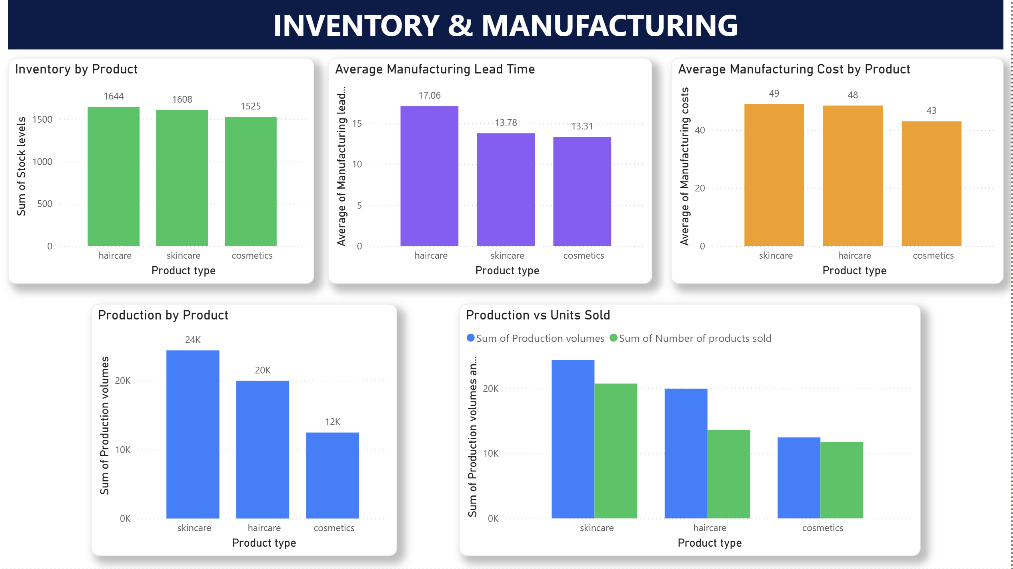

This screenshot's page, from the dashboard's own definition file:
{"tool":"powerbi","page":{"name":"Inventory & Manufacturing","canvas":[1280,720],"ordinal":2},"visuals":[{"type":"textbox","box":[10,0,1260,62.9],"z":0},{"type":"clusteredColumnChart","title":"Production by Product","fields":{"Category":["Supply_chain_Data.Product type"],"Y":["Sum(Supply_chain_Data.Production volumes)"]},"box":[115.8,384.2,387.7,319.3],"z":1000},{"type":"clusteredColumnChart","title":"Inventory by Product","fields":{"Category":["Supply_chain_Data.Product type"],"Y":["Sum(Supply_chain_Data.Stock levels)"]},"box":[10.5,73.7,387.7,286],"z":2000},{"type":"clusteredColumnChart","title":"Average Manufacturing Cost by Product","fields":{"Category":["Supply_chain_Data.Product type"],"Y":["Avg(Supply_chain_Data.Manufacturing costs)"]},"box":[849.1,73.7,421.1,286],"z":3000},{"type":"clusteredColumnChart","title":"Average Manufacturing Lead Time","fields":{"Category":["Supply_chain_Data.Product type"],"Y":["Avg(Supply_chain_Data.Manufacturing lead time)"]},"box":[415.8,73.7,410.5,286],"z":4000},{"type":"clusteredColumnChart","title":"Production vs Units Sold","fields":{"Category":["Supply_chain_Data.Product type"],"Y":["Sum(Supply_chain_Data.Production volumes)","Sum(Supply_chain_Data.Number of products sold)"]},"box":[580.7,384.2,584.2,319.3],"z":5000}]}

Visuals, with their boxes in screenshot pixels (x1, y1, x2, y2), scaled from the page's 1280x720 canvas onto the 1013x569 screenshot:
textbox: {"left": 8, "top": 0, "right": 1005, "bottom": 50}
"Production by Product" clusteredColumnChart: {"left": 92, "top": 304, "right": 398, "bottom": 556}
"Inventory by Product" clusteredColumnChart: {"left": 8, "top": 58, "right": 315, "bottom": 284}
"Average Manufacturing Cost by Product" clusteredColumnChart: {"left": 672, "top": 58, "right": 1005, "bottom": 284}
"Average Manufacturing Lead Time" clusteredColumnChart: {"left": 329, "top": 58, "right": 654, "bottom": 284}
"Production vs Units Sold" clusteredColumnChart: {"left": 460, "top": 304, "right": 922, "bottom": 556}
